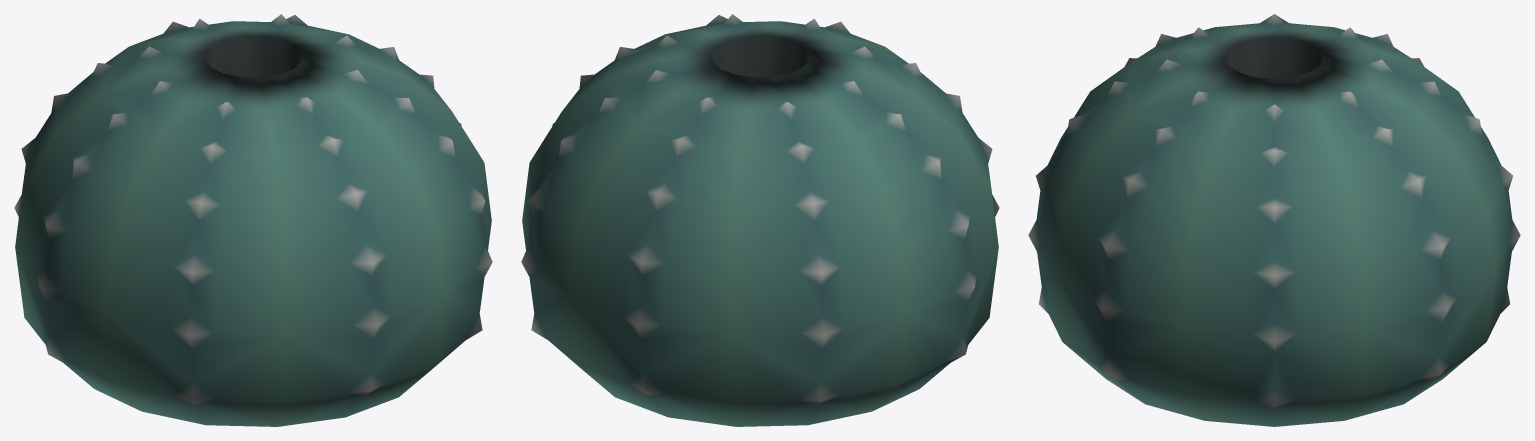
File: underwater-shells-urchin-shell_v1.glb
The picture shows the model from 3 angles, left to right: view 1: azimuth 30°, elevation 25°; view 2: azimuth 150°, elevation 25°; view 3: azimuth 270°, elevation 25°; orthographic projection.
Visible parts, largest first — view 1: Urchin Shell; view 2: Urchin Shell; view 3: Urchin Shell.
Boxes of the visible parts, bbox=[...] form: Urchin Shell: bbox=[14, 14, 492, 426]; Urchin Shell: bbox=[521, 14, 999, 426]; Urchin Shell: bbox=[1028, 14, 1520, 426].
Bounding box in the file's own units: 0.07 × 0.0457 × 0.0699.
